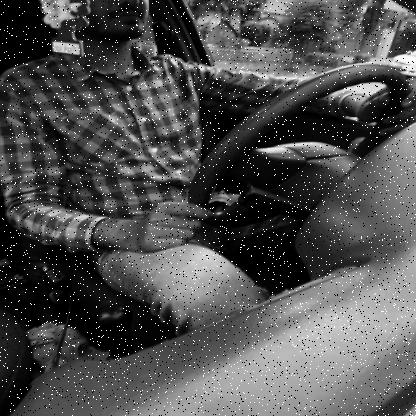no_seatbelt: (46, 0, 208, 182)
